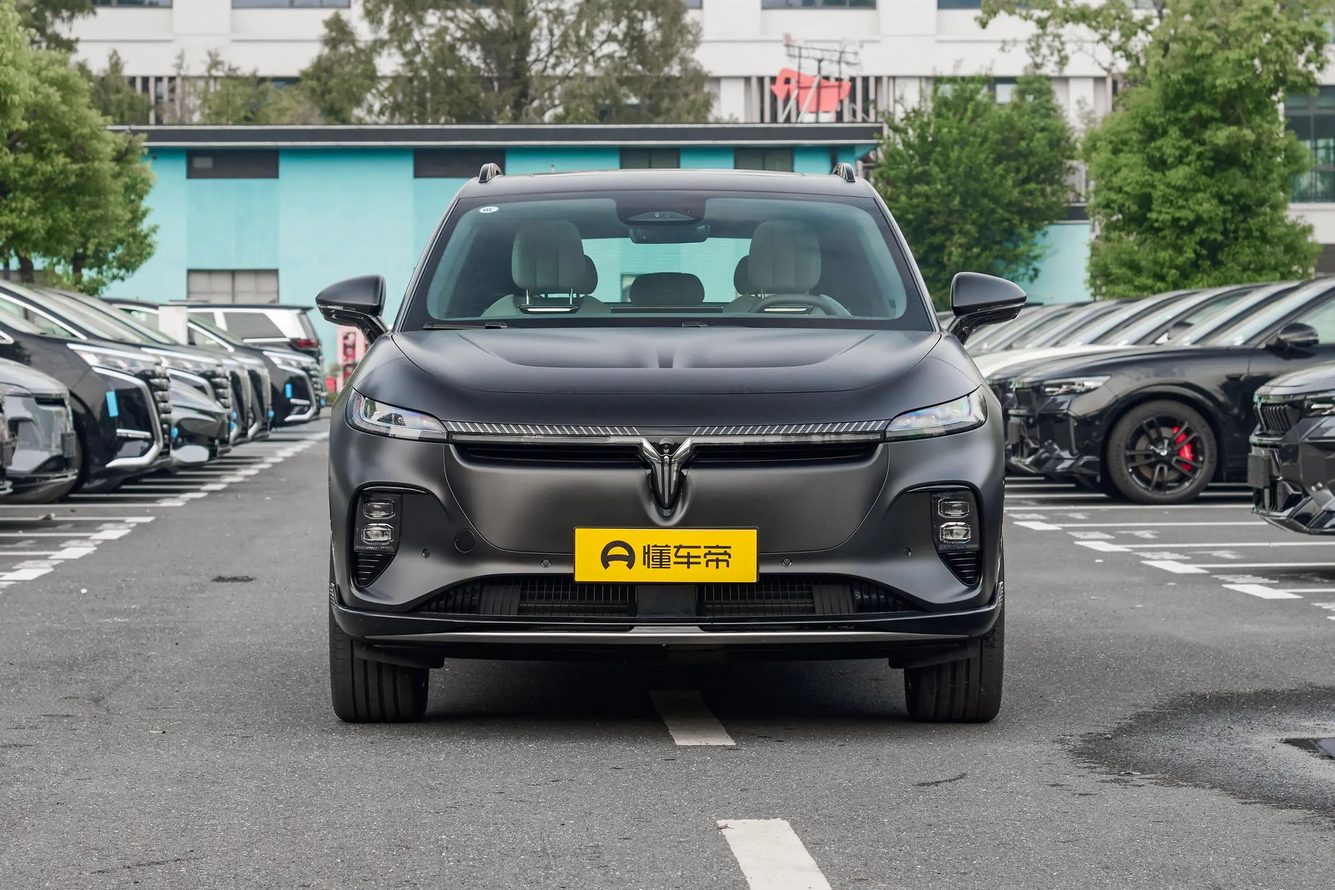VOYAH: (642, 439, 689, 505)
